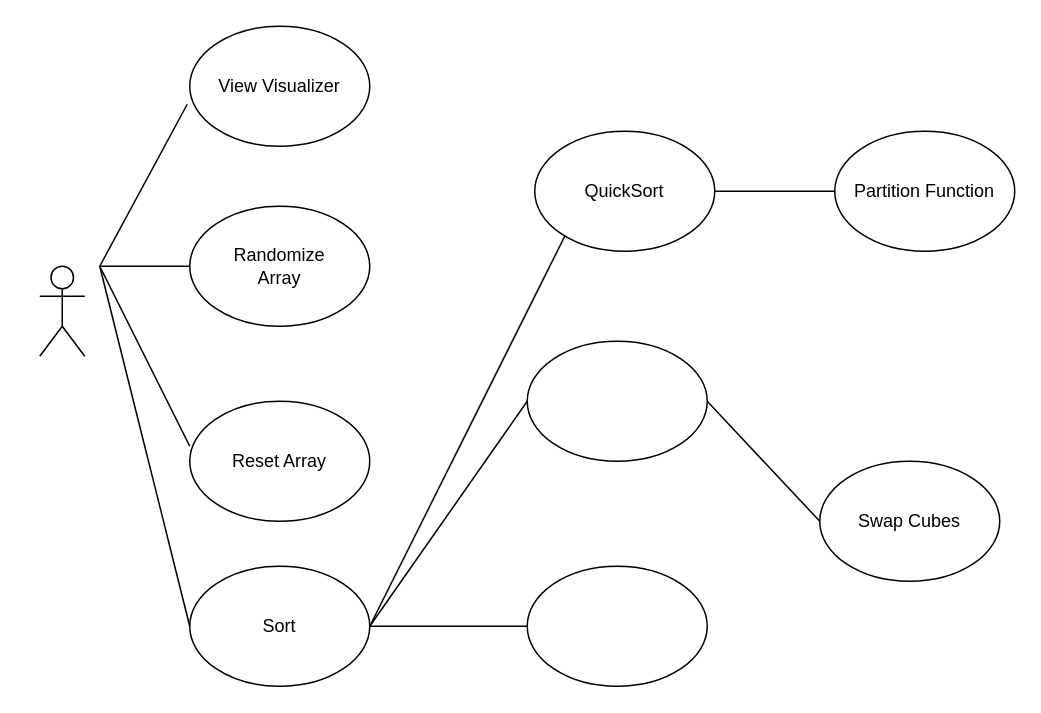
This 1041x713 diagram has some shape labels left out. The shapes that lost their labels are listed below. From the top down, each one's centre as x and y in pixels, then its label:
At pixel 61 310: "Site User".
At pixel 616 400: "Bubble Sort".
At pixel 616 625: "Insertion Sort".
